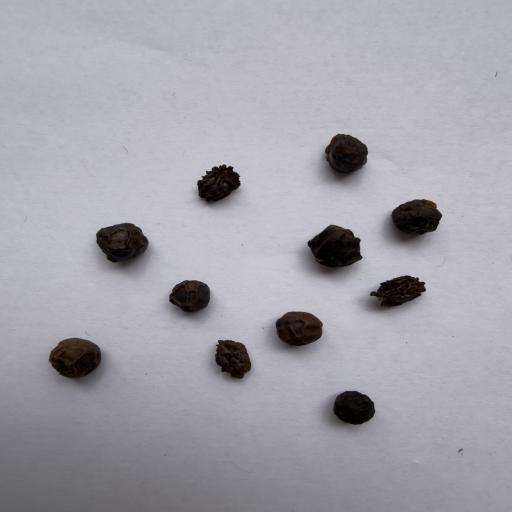Black_pepper: (60, 200, 150, 272), (378, 179, 459, 248), (283, 212, 364, 279), (260, 297, 345, 354), (34, 329, 105, 384), (328, 378, 378, 441), (317, 118, 370, 174), (166, 270, 228, 314)
papaya_seed: (173, 144, 258, 222), (365, 266, 466, 315), (189, 329, 261, 390)
